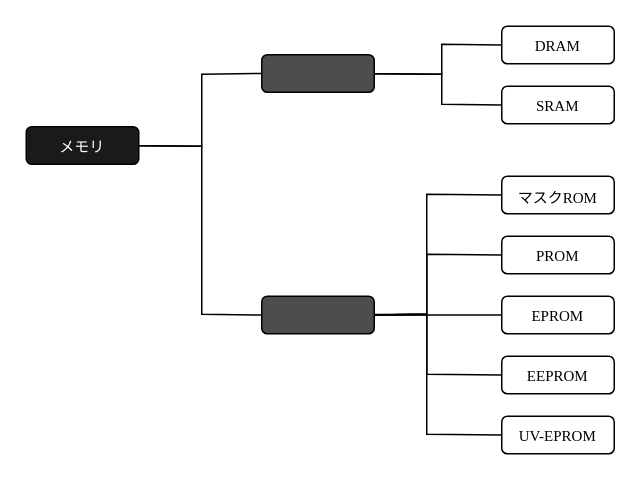
This 641x480 diagram has some shape labels left out. Here are the shapes that lost their labels. From the top down, the centre of each, then its label:
At (317,72): "RAM".
At (317,314): "ROM".
